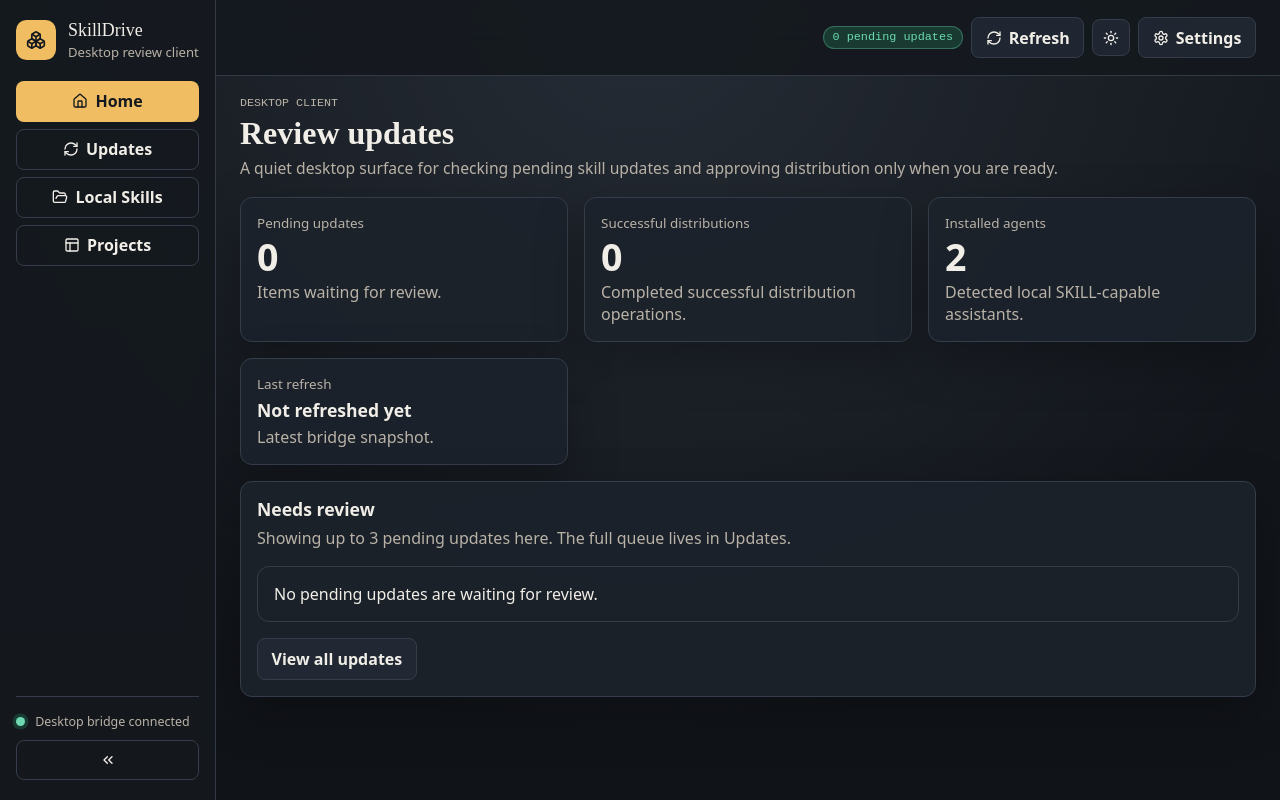
it: App › sidebar collapse toggle › toggles to collapsed state, persists, and swaps aria-expanded/label
Expected: the button "Home" is shown, 16,81 -> 199,122
Click the button named "Collapse sidebar": {"x": 108, "y": 760} 16,740 -> 199,780
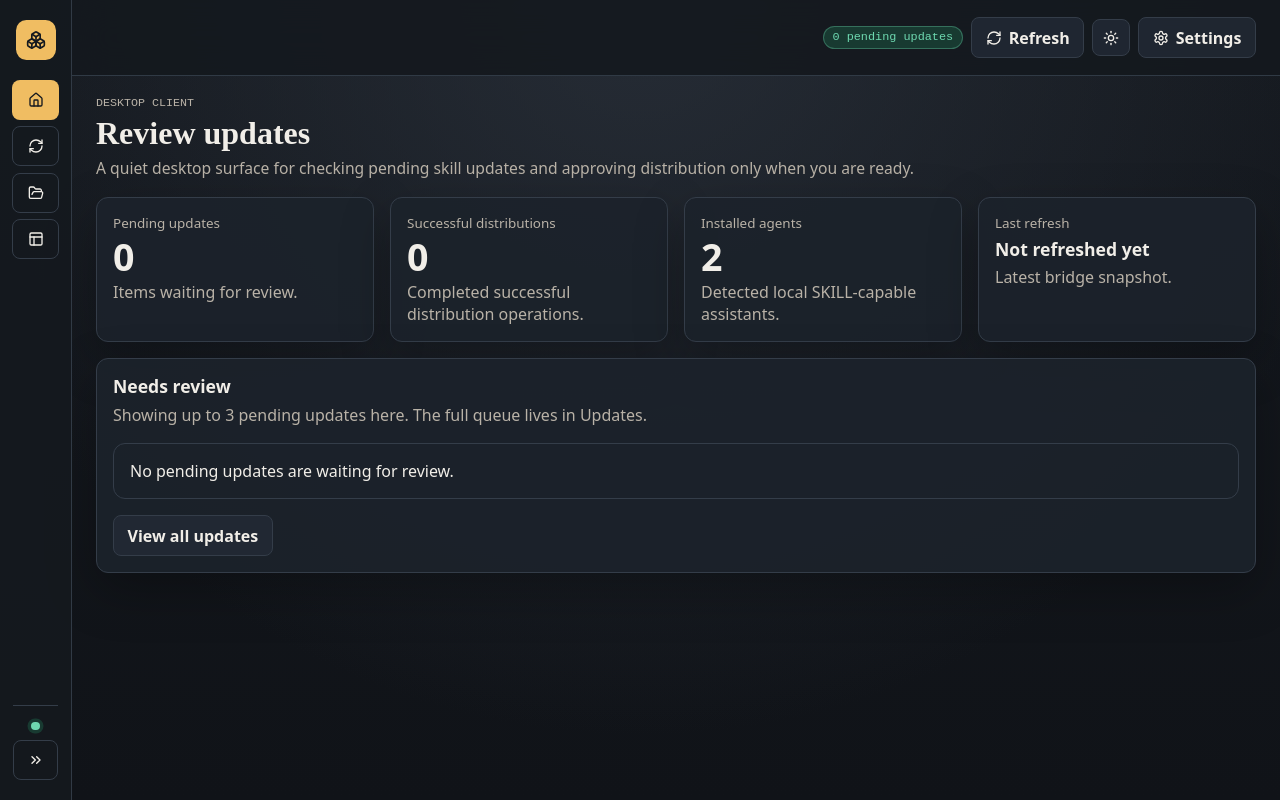
Expected: the button named "Collapse sidebar" is collapsed
// Toggle back to expanded
Click the button named "Collapse sidebar": {"x": 36, "y": 760} 13,740 -> 58,780
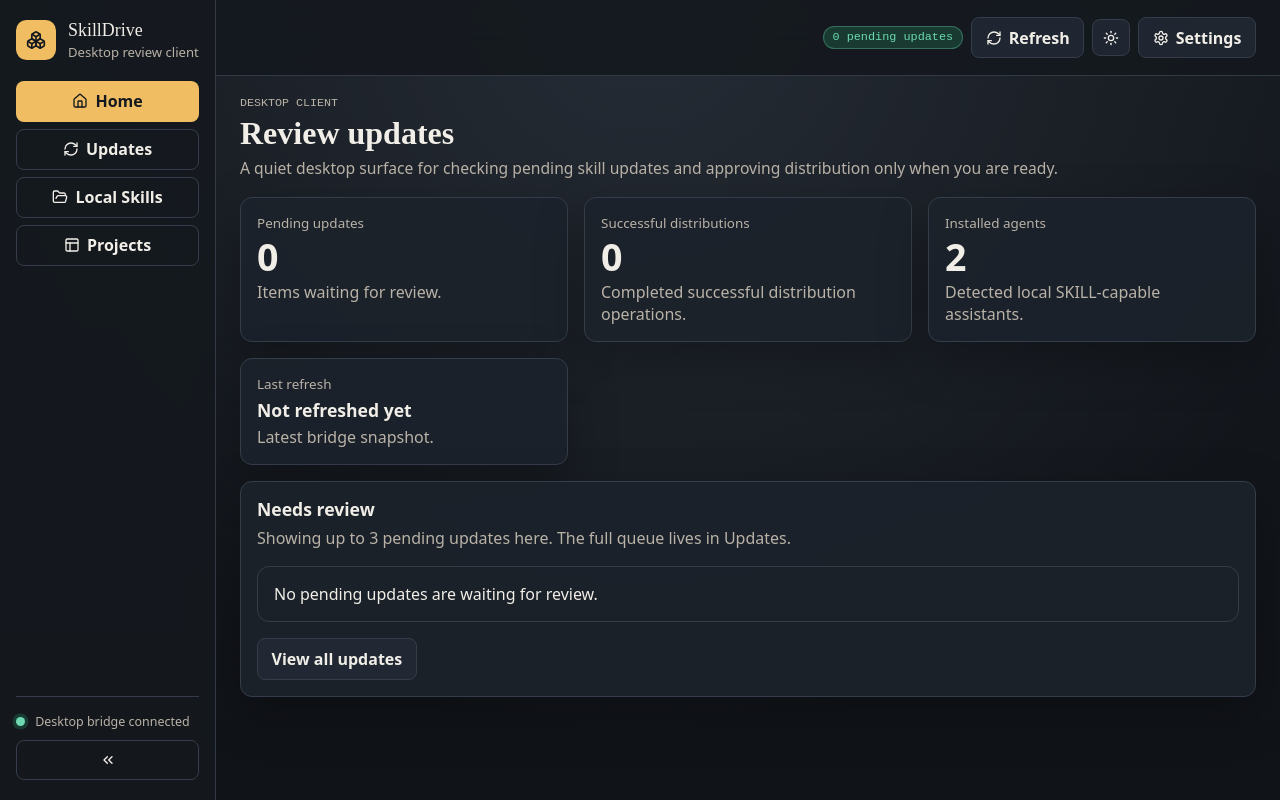
Expected: the button named "Collapse sidebar" is expanded, 16,740 -> 199,780
